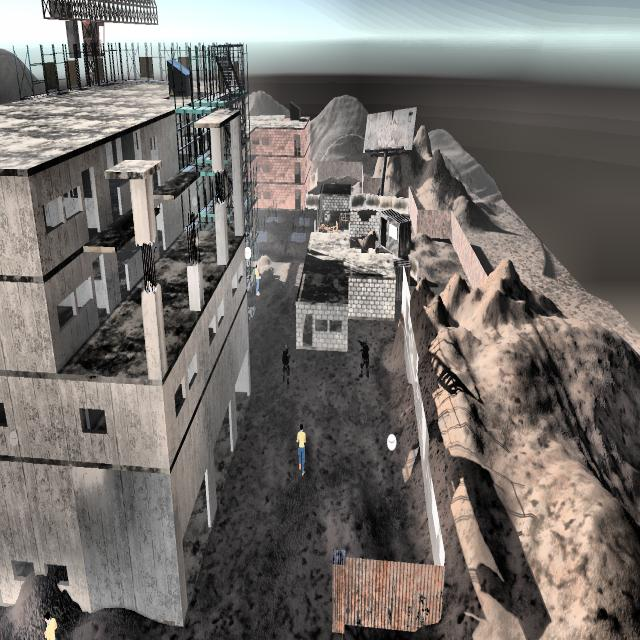bad: (279, 338, 294, 383), (358, 331, 371, 380)
good: (292, 420, 312, 481), (42, 609, 58, 640), (254, 259, 262, 301)
